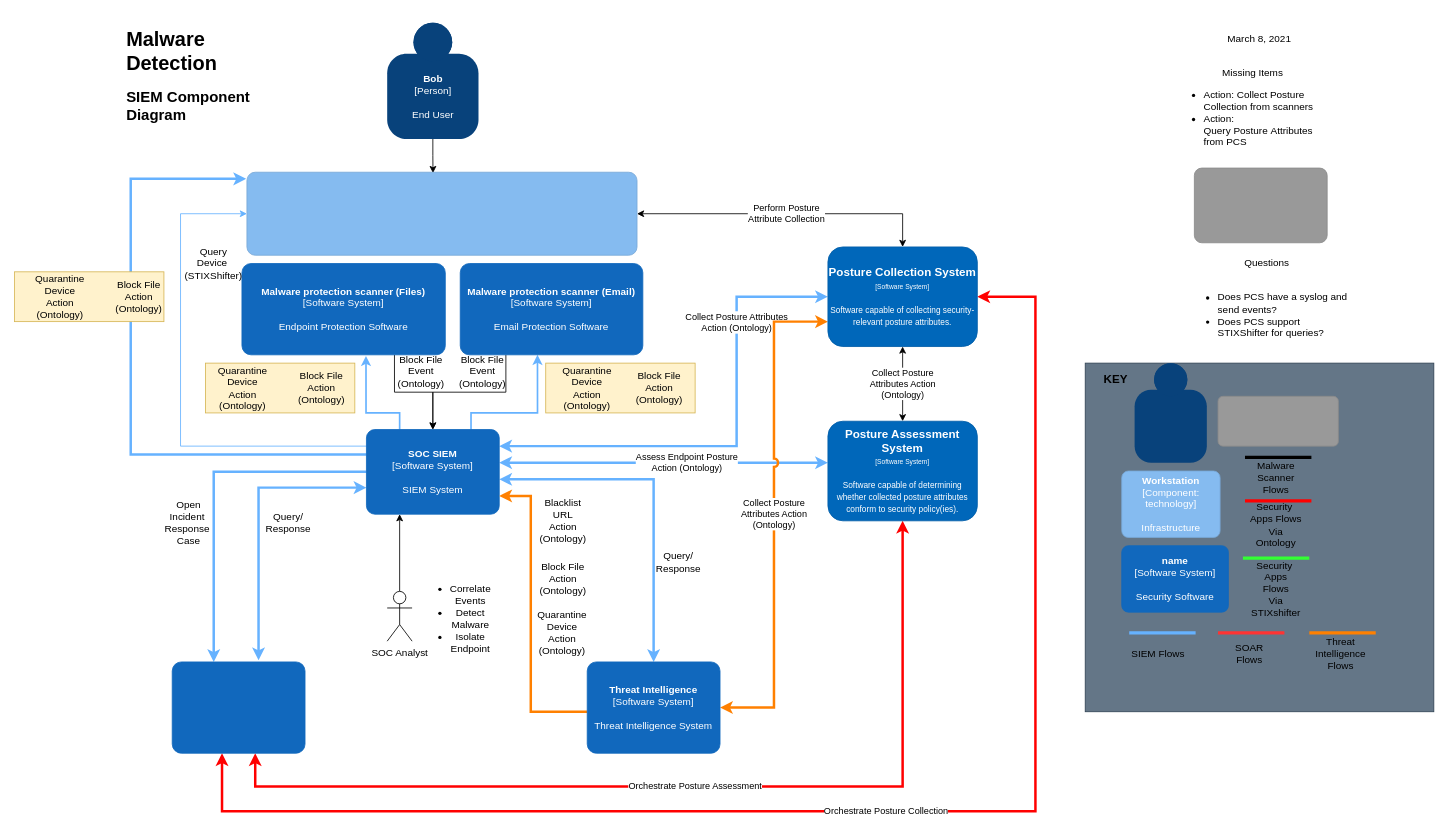
Some shapes in this 1448 by 834 pixel diagram are drawn without their labels. Each missing label, with the centre of its shape:
"BobsPC [Component: technology] Bob's Workstation" goes at point 441,213.
"name [Person] Person" goes at point 1170,412.
"OCA [Software System] OCA Component" goes at point 1277,420.
"Posture Attributes [Software System] Posture Collection System" goes at point 1260,205.
"SOC SOAR [Software System] SOAR System" goes at point 238,707.
